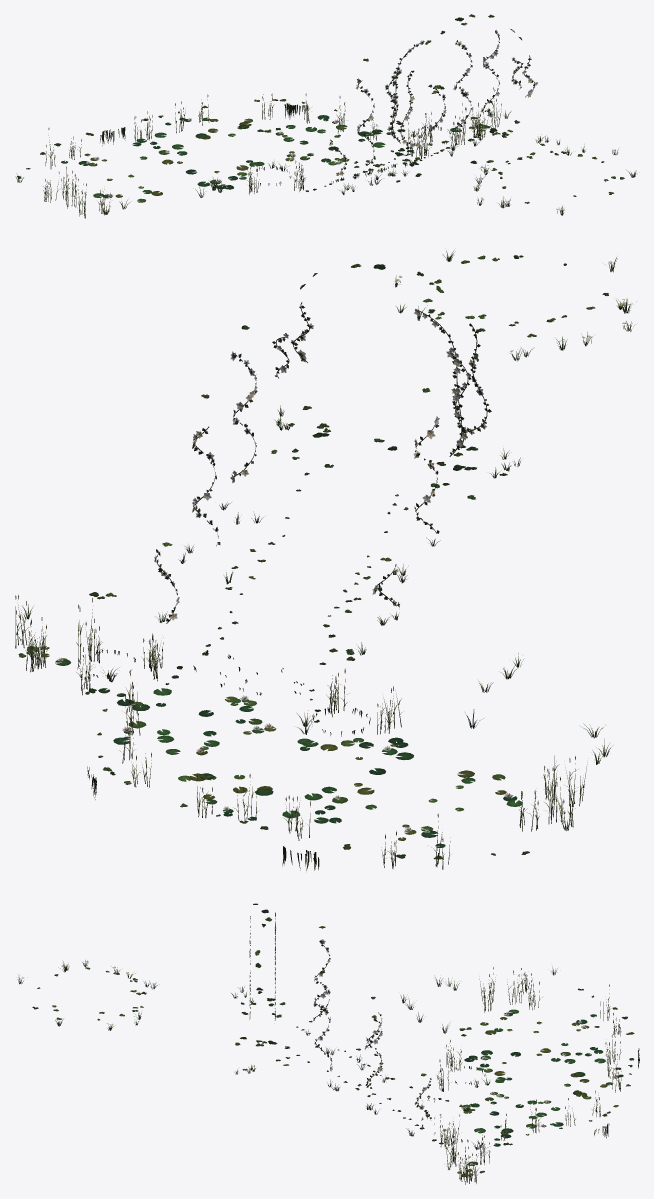
File: drowned_temple_entrance_growth.glb
The picture shows the model from 3 angles, top to bottom: view 1: azimuth 30°, elevation 25°; view 2: azimuth 150°, elevation 25°; view 3: azimuth 270°, elevation 25°; orthographic projection. The views are drawn at different scales.
Parts seen in each view (by area): view 1: Growth_Works, Growth_Gate, Growth_FlankWest, Growth_FlankEast, Growth_Stair; view 2: Growth_Works, Growth_Gate, Growth_FlankWest, Growth_FlankEast; view 3: Growth_Works, Growth_FlankWest, Growth_FlankEast, Growth_Gate.
Part boxes in pixels (box(x1,y1,x2,y2)): Growth_Works: box(15, 87, 636, 218); Growth_Gate: box(373, 14, 559, 182); Growth_FlankWest: box(406, 14, 499, 158); Growth_FlankEast: box(245, 58, 393, 194); Growth_Stair: box(305, 136, 476, 191); Growth_Works: box(15, 250, 634, 870); Growth_Gate: box(271, 263, 520, 499); Growth_FlankWest: box(76, 325, 263, 682); Growth_FlankEast: box(297, 388, 440, 736); Growth_Works: box(17, 960, 639, 1184); Growth_FlankWest: box(313, 971, 485, 1166); Growth_FlankEast: box(305, 926, 489, 1091); Growth_Gate: box(231, 903, 289, 1074).
Size of the model in its own units: 36.37 by 19 by 48.22.
